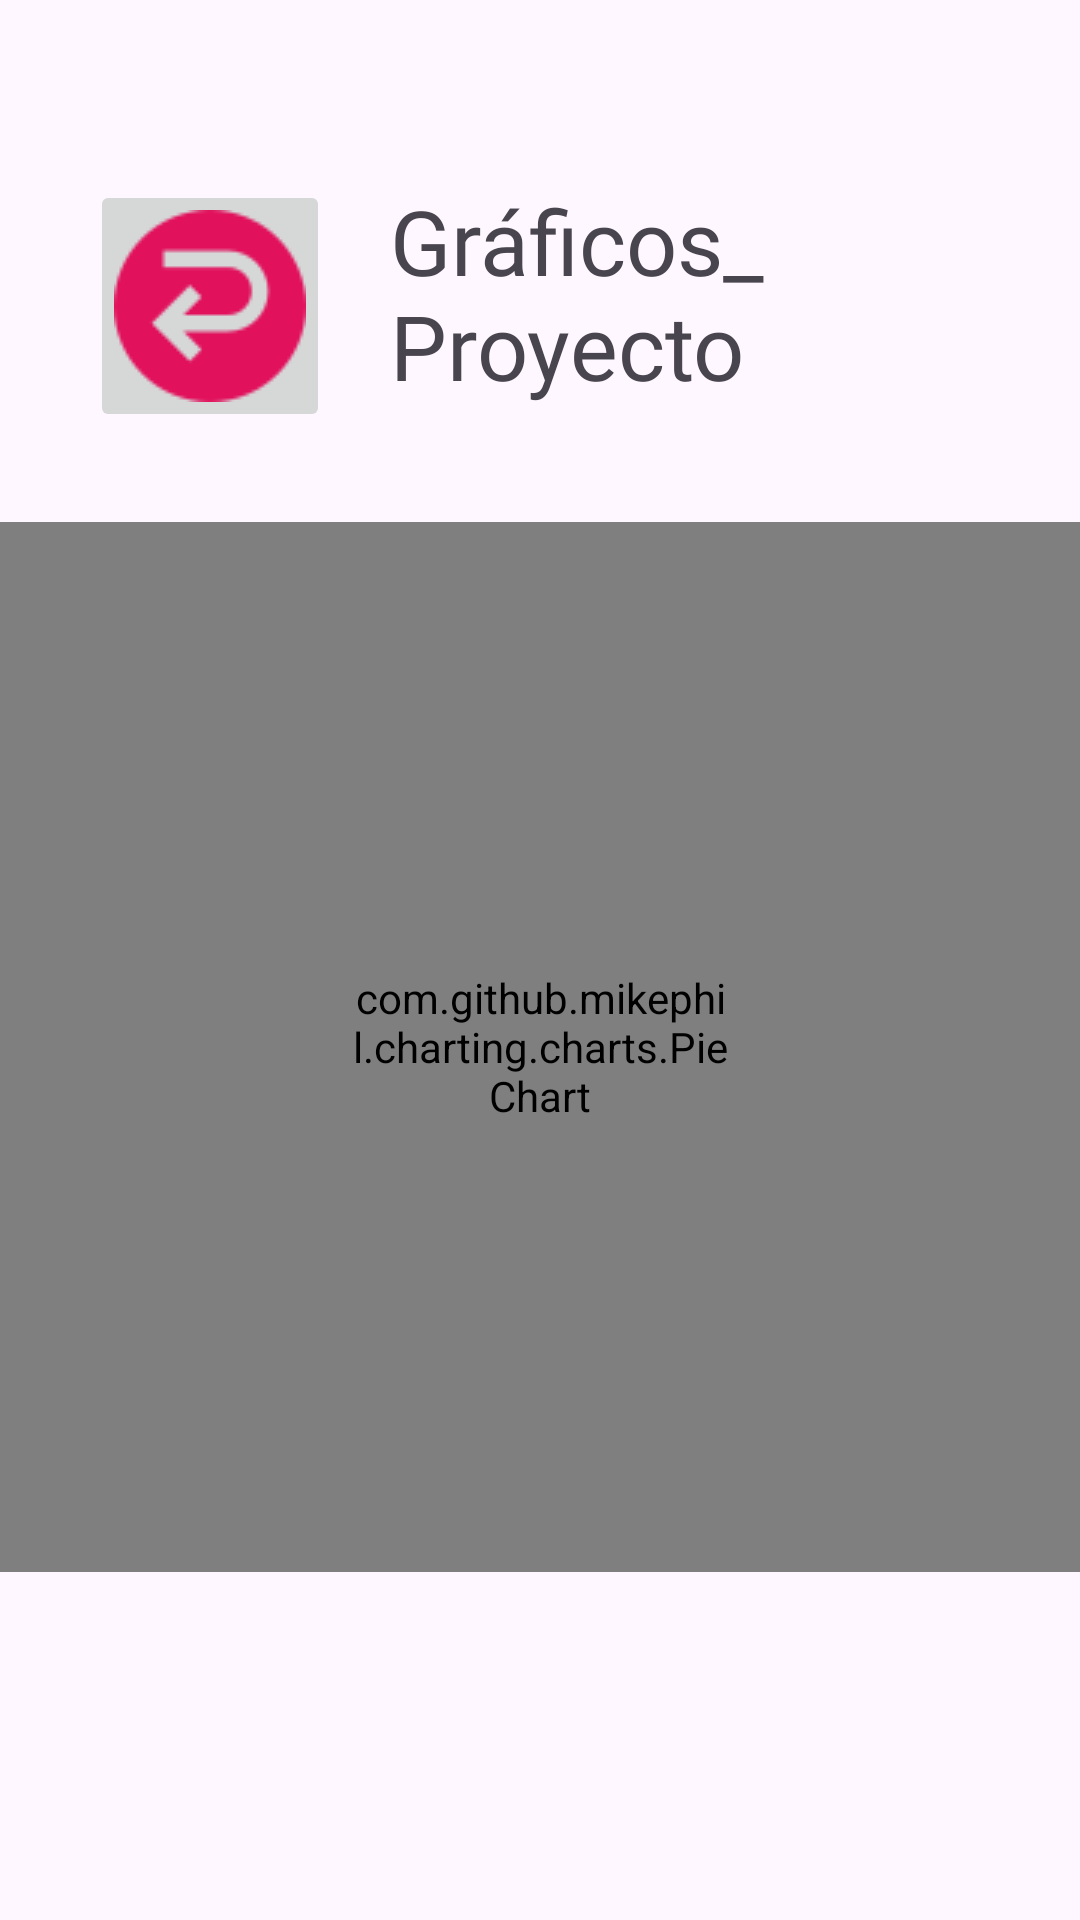

Point at icon controls on the screen. Image size 1080w x 1920h, points as point (x, y).
flecha hacia atras: point (210, 306)
